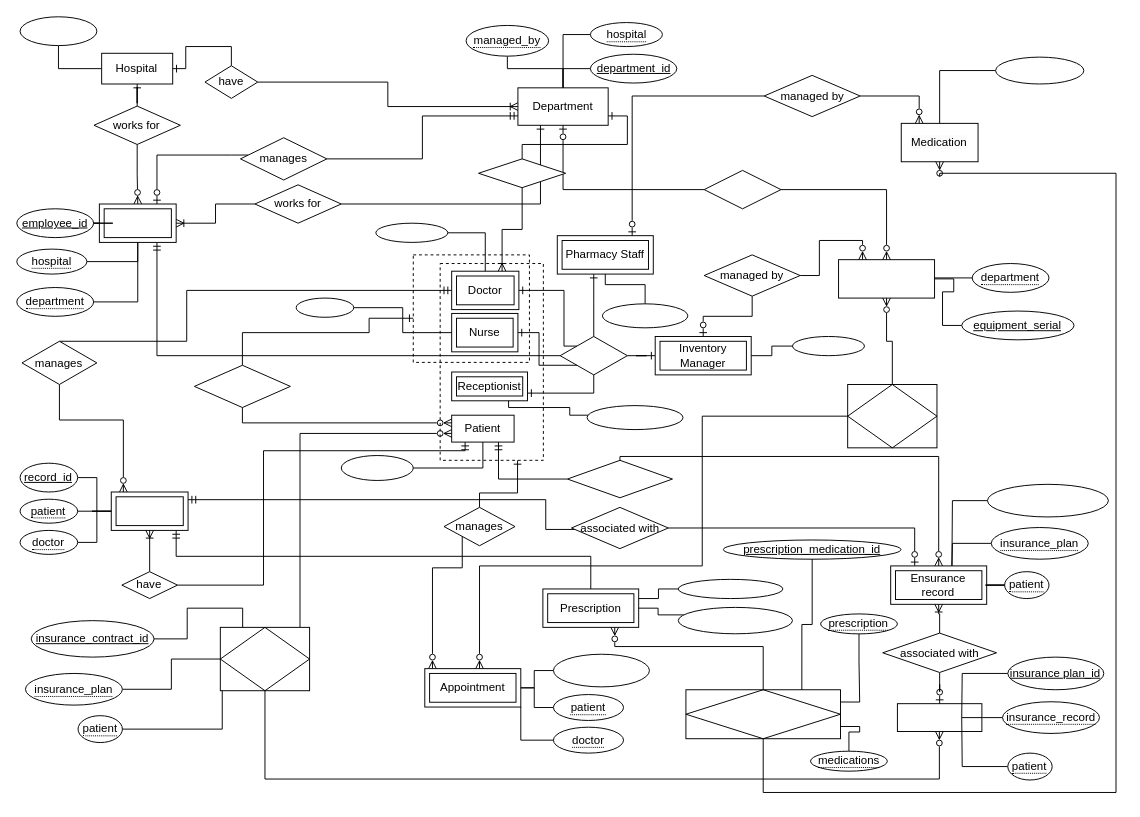
The diagram is 1140 pixels wide and 817 high, and some of its shapes have lost their labels. The shapes that lost their labels are listed below. From the top down, each one's box as (x1, y1, x2, y2) in pixels, then its label:
(19, 16, 97, 46): hospital_id
(995, 56, 1084, 84): medication_id
(478, 158, 566, 188): belongs to
(703, 169, 781, 209): owns
(98, 203, 176, 242): Employee
(375, 222, 448, 242): doctor_id
(838, 259, 935, 298): Equipment
(295, 297, 354, 317): nurse_id
(601, 303, 688, 328): phamacist_id
(559, 336, 627, 375): ISA
(792, 336, 864, 356): invent_id
(193, 364, 290, 408): taken care of
(586, 405, 683, 430): receptionist_id
(847, 384, 937, 448): Equipment appointment
(340, 455, 413, 480): patient_id
(566, 459, 672, 498): is covered by
(110, 491, 188, 530): Medical record
(986, 483, 1108, 517): insurance record_id
(677, 578, 783, 599): prescription_id
(677, 606, 792, 634): medical_record
(219, 626, 310, 691): Insurance contract
(552, 653, 649, 687): appointment_id
(685, 689, 840, 739): PrescriptionMedication
(896, 703, 982, 732): Insurance plan
